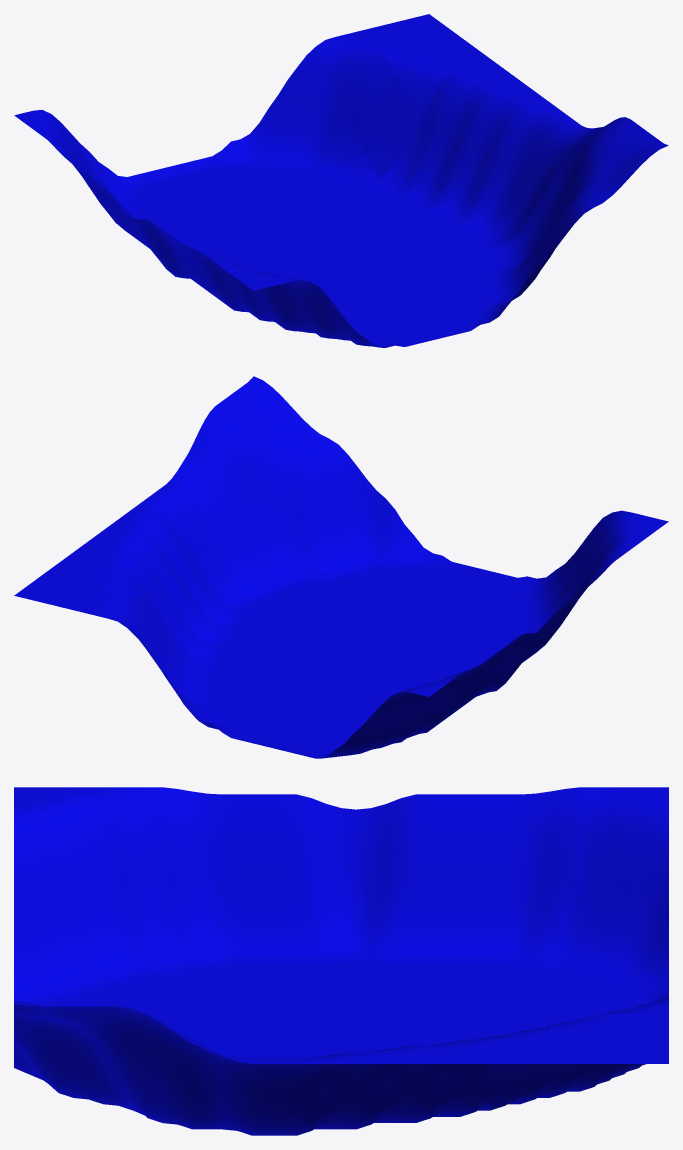
File: CHUNK_0_-1.glb
3 views of the same model, one above another, from view 1: azimuth 30°, elevation 25°; view 2: azimuth 150°, elevation 25°; view 3: azimuth 270°, elevation 25° (orthographic). The views are drawn at different scales.
Parts seen in each view (by area): view 1: Chunk_0_-1; view 2: Chunk_0_-1; view 3: Chunk_0_-1.
Boxes of the visible parts, x1=… form: Chunk_0_-1: x1=14, y1=14, x2=668, y2=347; Chunk_0_-1: x1=14, y1=376, x2=668, y2=758; Chunk_0_-1: x1=14, y1=787, x2=668, y2=1135.
Bounding box in the file's own units: 100 × 31.57 × 100.
